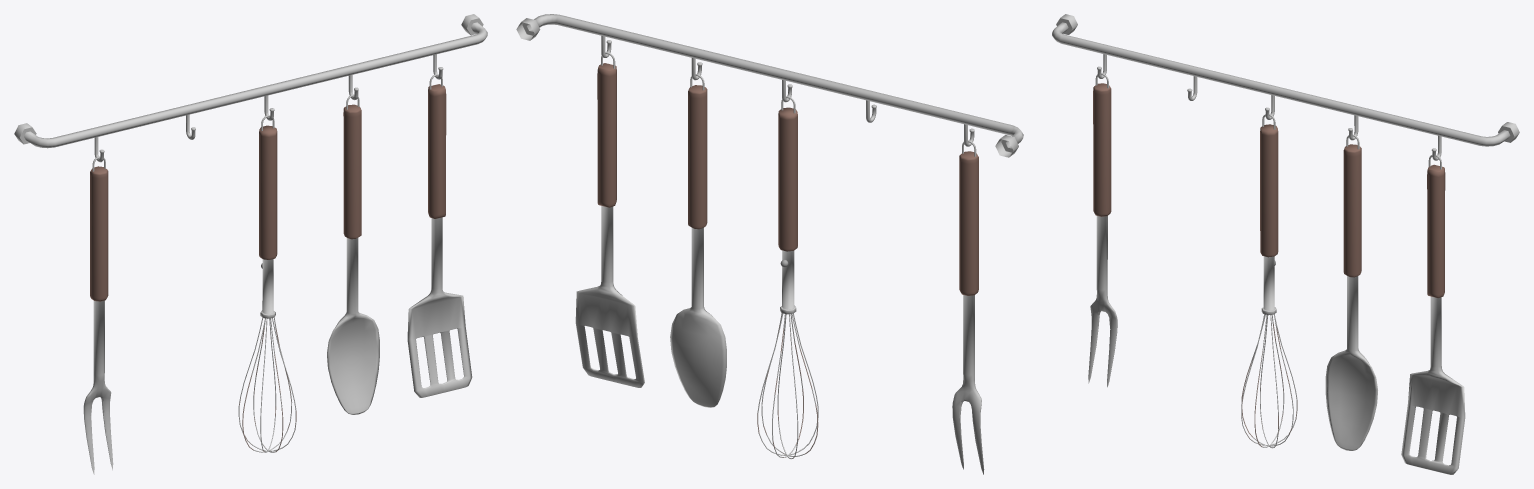
File: Kitchen_Tools.fbx
3 renders of one model, left to right at view 1: azimuth 30°, elevation 25°; view 2: azimuth 150°, elevation 25°; view 3: azimuth 330°, elevation 25°, orthographic. The views are drawn at different scales.
Visible parts, largest first — view 1: Kitchen_Tools2; view 2: Kitchen_Tools2; view 3: Kitchen_Tools2.
Part boxes in pixels (<box>): Kitchen_Tools2: <box>14,14,487,474</box>; Kitchen_Tools2: <box>516,14,1023,474</box>; Kitchen_Tools2: <box>1052,14,1519,474</box>.
Bounding box in the file's own units: 150 × 113 × 20.51.
